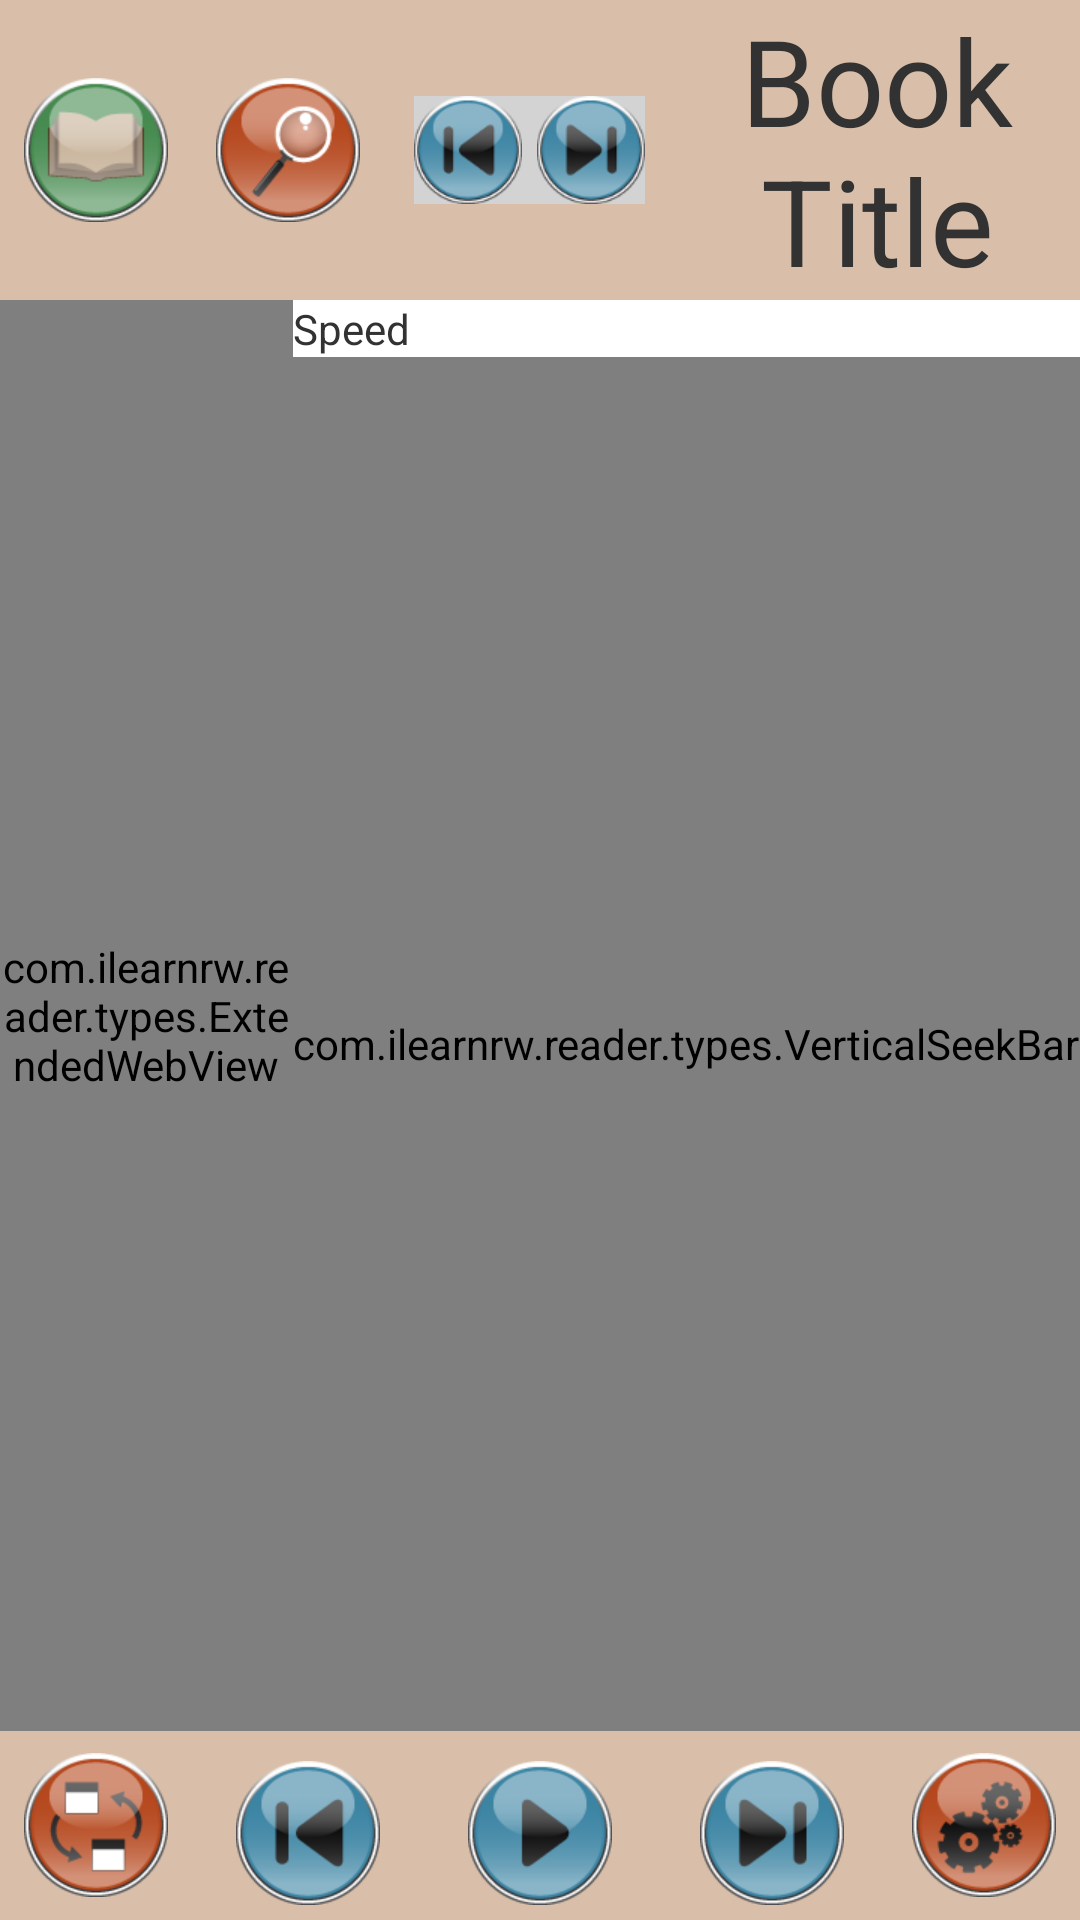

Locate icon controls on the screen. Image size 1080px x 1920px, boxes as (x1, y1, x2, y2).
Back to Library: (24, 78, 168, 222)
Change mode: (24, 1753, 168, 1897)
Next sentence: (700, 1761, 844, 1905)
Play: (468, 1761, 612, 1905)
Previous sentence: (236, 1761, 380, 1905)
Search: (216, 78, 360, 222)
search next: (537, 96, 645, 204)
search prev: (414, 96, 522, 204)
settings: (912, 1753, 1056, 1897)
